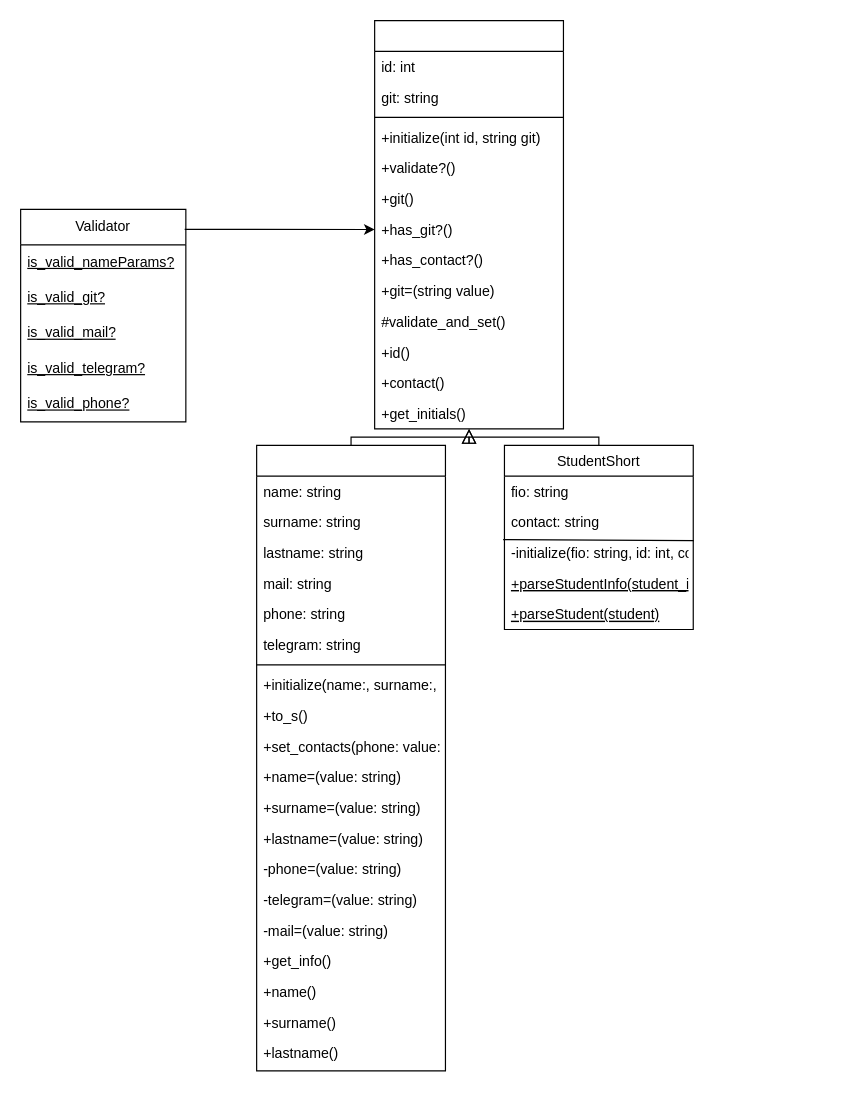
Some shapes in this 855 by 1093 pixel diagram are drawn without their labels. The box of each missing label's shape, as (x1, y1, x2, y2) in pixels:
Student: (255, 444, 445, 1071)
StudentBase: (373, 19, 563, 429)
